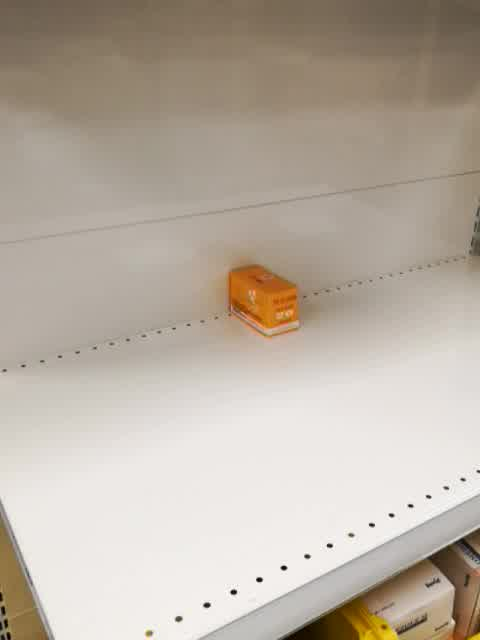jasminetea: (227, 262, 300, 339)
